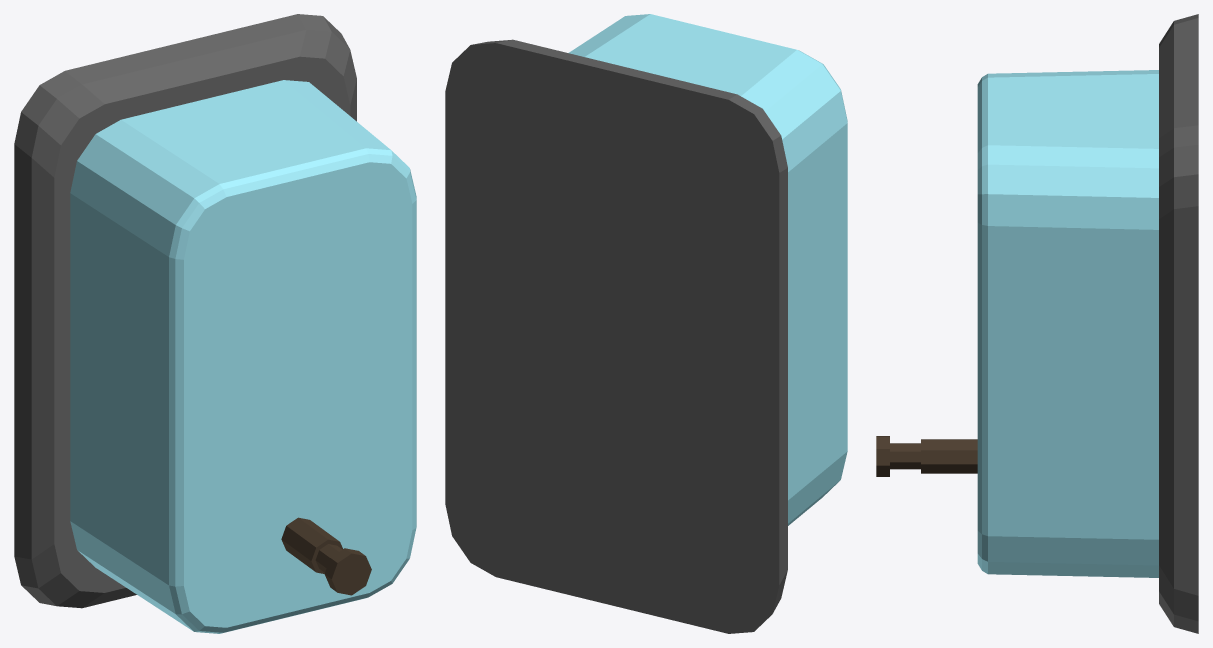
The model's file is Prop_SoupDispenser.fbx.
3 views of the same model, side by side, from view 1: azimuth 30°, elevation 25°; view 2: azimuth 150°, elevation 25°; view 3: azimuth 270°, elevation 25° (orthographic). The views are drawn at different scales.
Visible parts, largest first — view 1: Prop_SoupDispenser; view 2: Prop_SoupDispenser; view 3: Prop_SoupDispenser.
Part boxes in pixels (left/top/right/bottom): Prop_SoupDispenser: left=14, top=14, right=416, bottom=633; Prop_SoupDispenser: left=445, top=14, right=847, bottom=633; Prop_SoupDispenser: left=876, top=14, right=1198, bottom=633.
Size of the model in its own units: 15.28 by 23.35 by 13.51.
